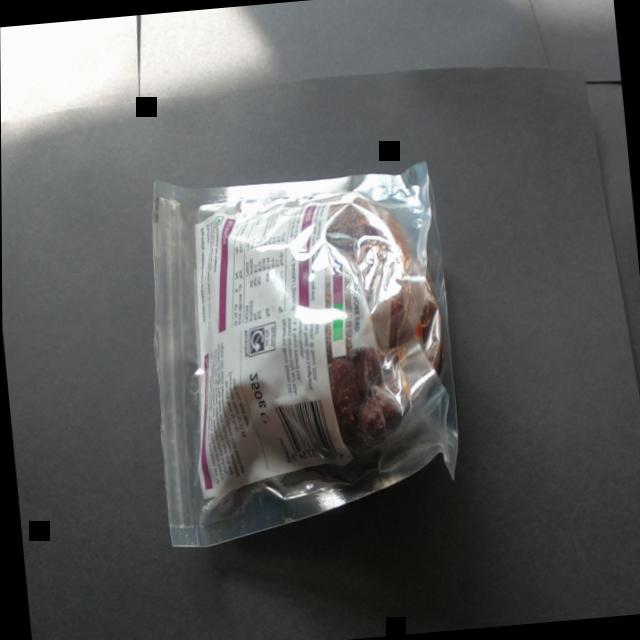Medjooldates: (121, 132, 498, 568)
